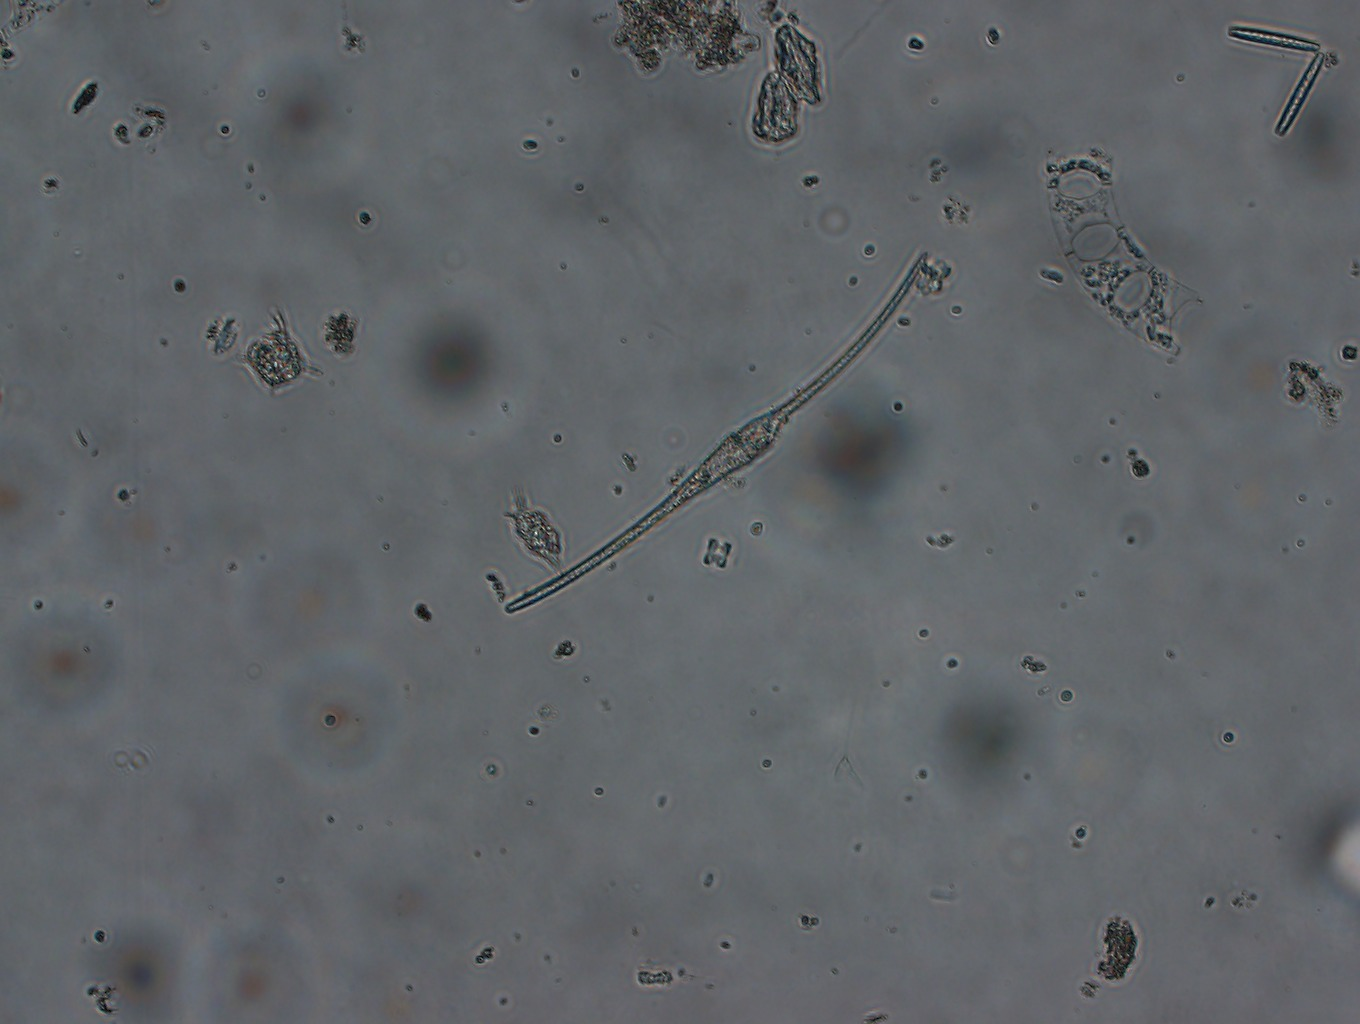ceratium fusus: (485, 244, 935, 620)
eucampia: (1033, 129, 1203, 362)
thalassionema nitzschioides: (1217, 14, 1333, 137)
